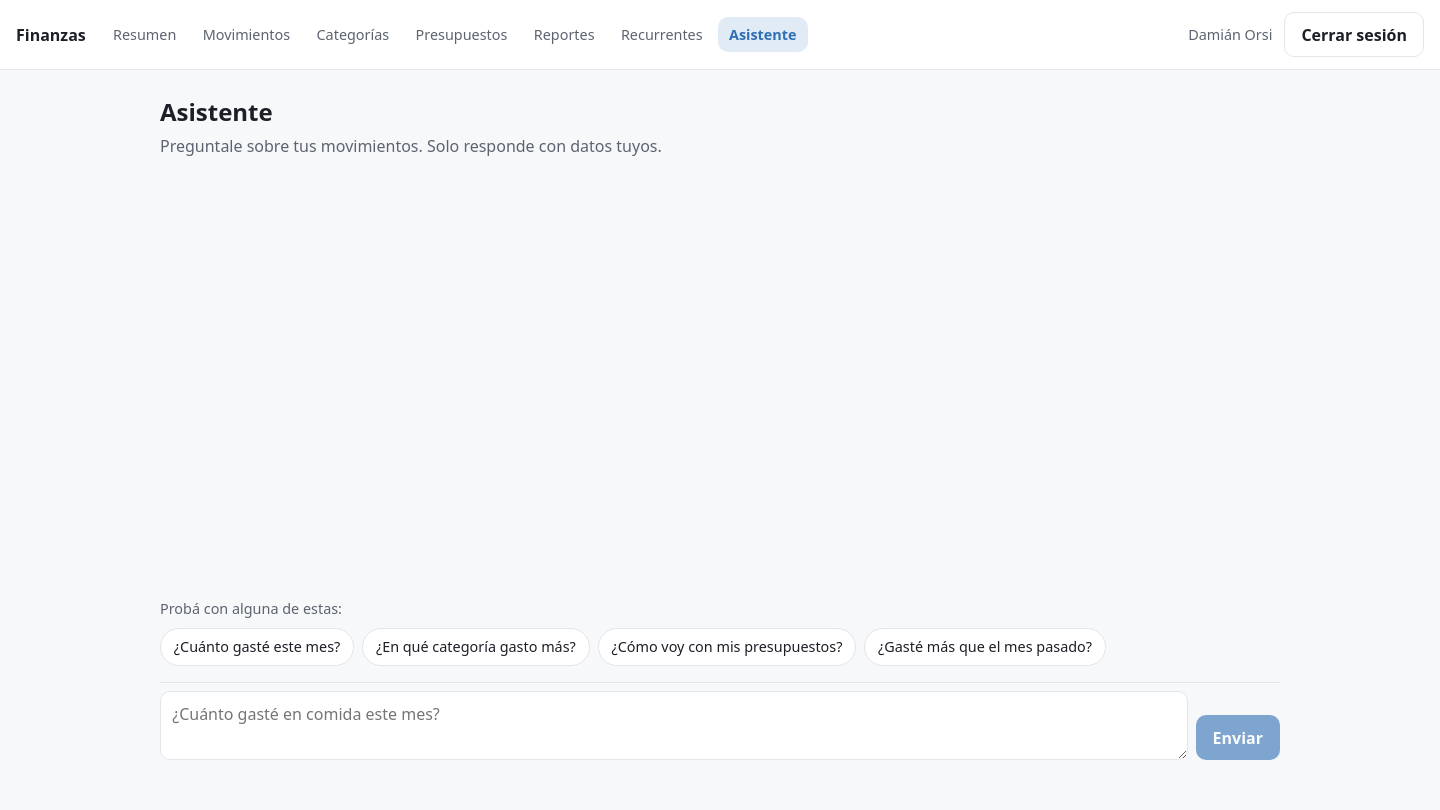
Test: ChatPage: errores › avisa cuando se supera el cupo por hora
Type "hola" into the text box named "tu consulta" at (674, 726), box [160, 691, 1188, 760]
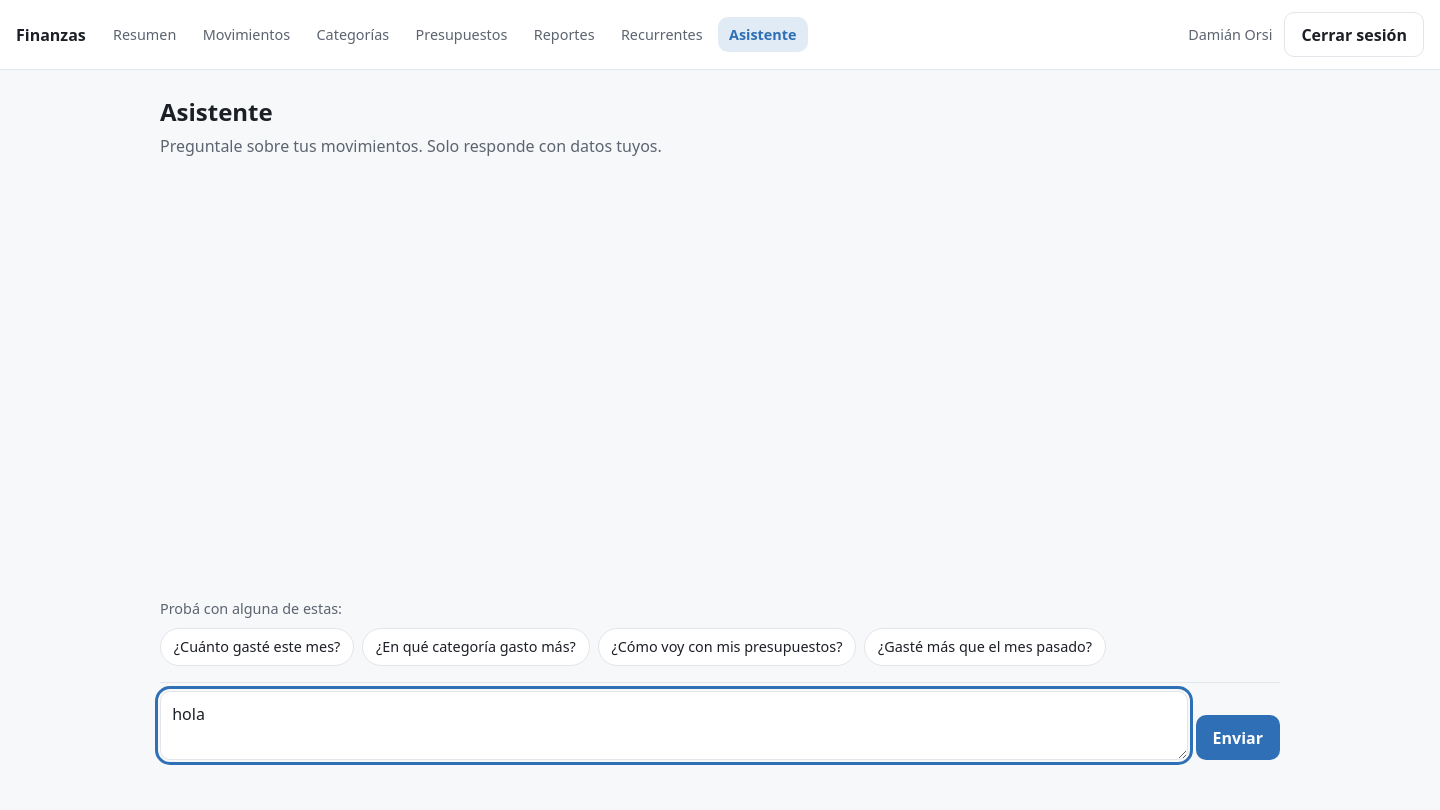
Click the button "Enviar" at (1238, 738), box [1196, 715, 1280, 760]
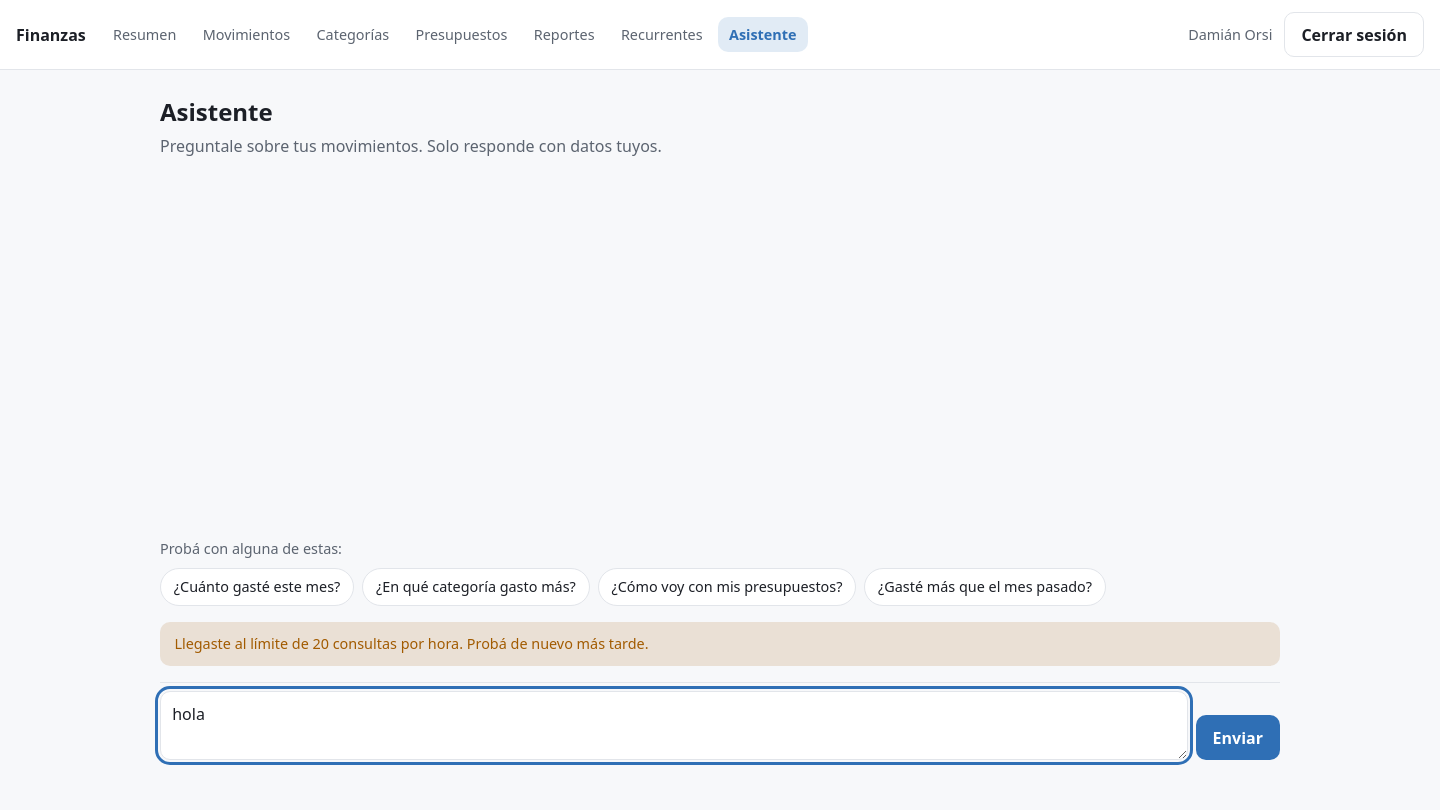
Now the message shows "límite de 20 consultas por hora", box [174, 634, 648, 653]
